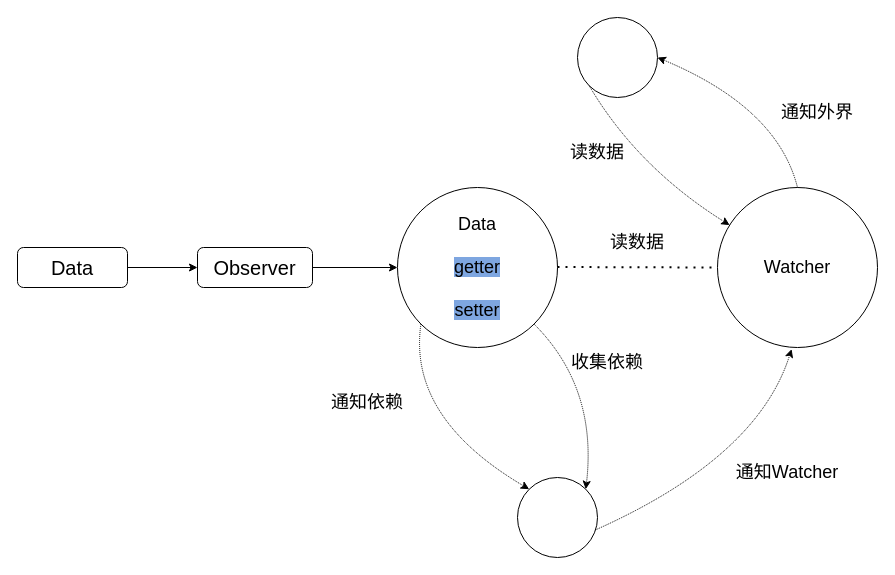
Image size: 895x575. Some labels were removed from this diagram. The shapes that lost their labels are listed below. From the top down, each one's box as (x1, y1, x2, y2) in pixels, then its label:
(576, 16, 658, 98): 外界
(516, 476, 598, 558): Dep
